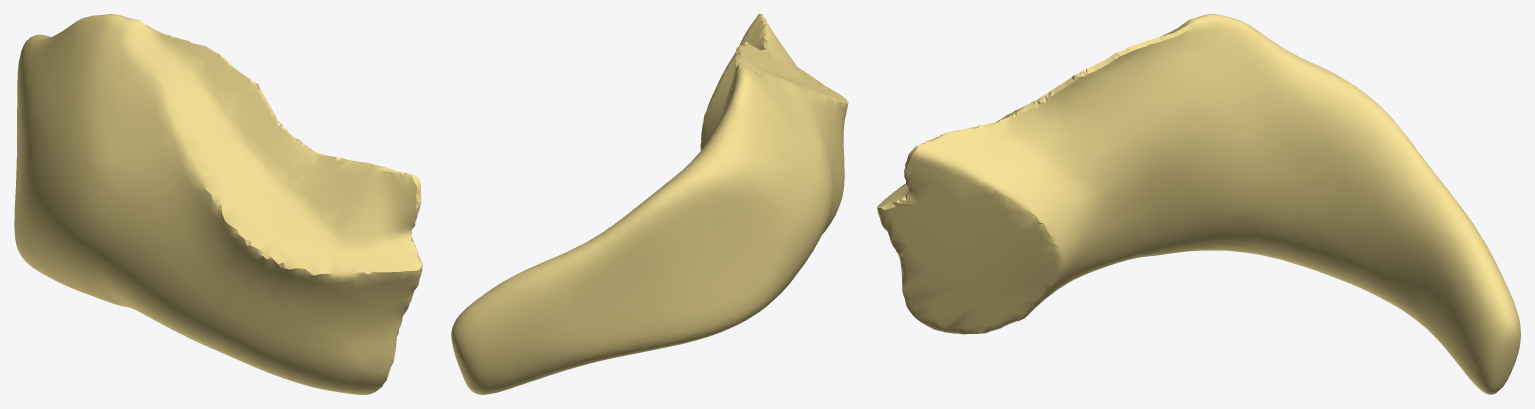
The model's file is fma261121_mm3344m.glb.
3 views of the same model, side by side, from view 1: azimuth 30°, elevation 25°; view 2: azimuth 150°, elevation 25°; view 3: azimuth 270°, elevation 25° (orthographic). The views are drawn at different scales.
Parts seen in each view (by area): view 1: FMA261121_MM3344M; view 2: FMA261121_MM3344M; view 3: FMA261121_MM3344M.
Part boxes in pixels (x1,y1,x2,y2): FMA261121_MM3344M: [14, 14, 422, 394]; FMA261121_MM3344M: [451, 14, 848, 394]; FMA261121_MM3344M: [877, 14, 1520, 394].
Bounding box in the file's own units: 0.0267 × 0.0299 × 0.058.
